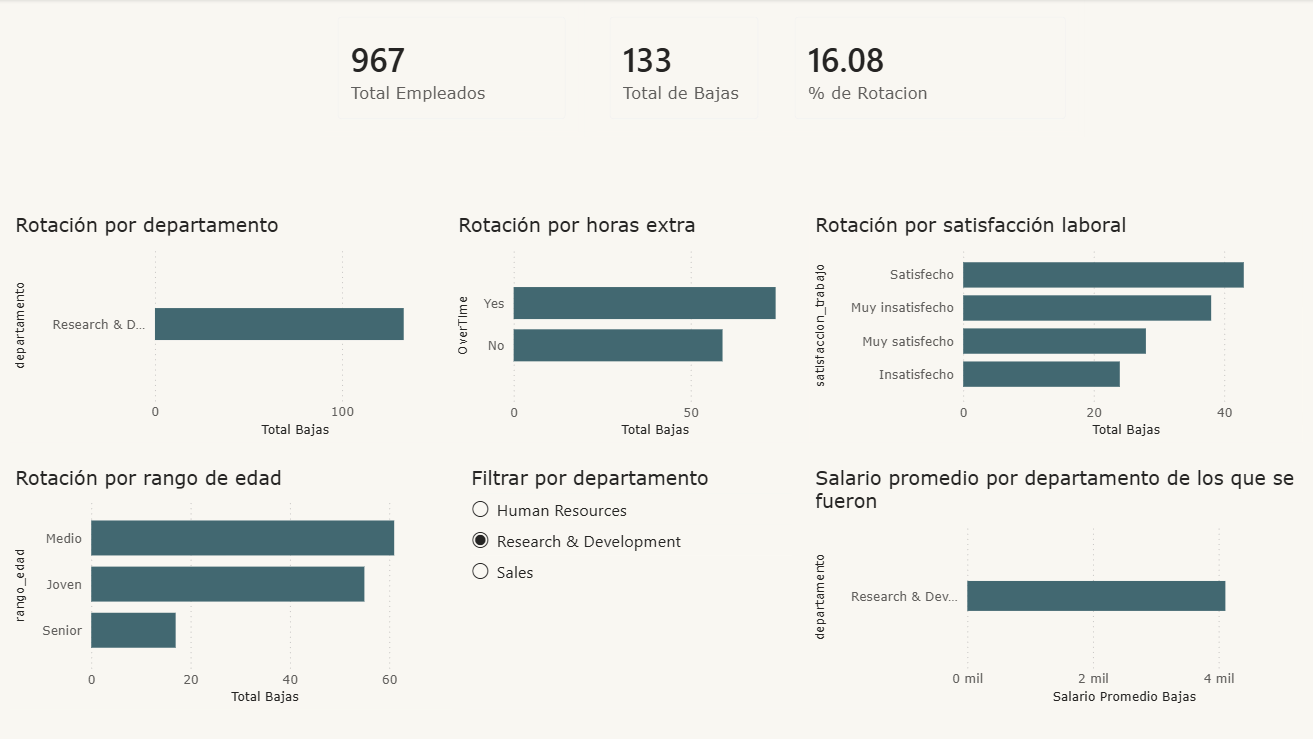

What the dashboard file says about the page in this screenshot:
{"tool":"powerbi","page":{"name":"Página 1","canvas":[1280,720],"ordinal":0},"visuals":[{"type":"cardVisual","fields":{"Data":["CountNonNull(hr_analytics vista_empleados.id_empleado)"]},"box":[312.2,0,256.8,134.2],"z":0},{"type":"cardVisual","fields":{"Data":["hr_analytics vista_empleados.Total Bajas"]},"box":[576.8,0,179.9,134.2],"z":1000},{"type":"cardVisual","fields":{"Data":["Avg(hr_analytics vista_empleados.% Rotacion)"]},"box":[756.7,0,298.6,134.2],"z":2000},{"type":"clusteredBarChart","title":"Rotación por departamento","fields":{"Y":["hr_analytics vista_empleados.Total Bajas"],"Category":["hr_analytics vista_empleados.departamento"]},"box":[10.7,207.2,430.9,223.7],"z":3000},{"type":"clusteredBarChart","title":"Rotación por horas extra","fields":{"Y":["hr_analytics vista_empleados.Total Bajas"],"Category":["hr_analytics vista_empleados.OverTime"]},"box":[441.7,207.2,347.5,224],"z":4000},{"type":"clusteredBarChart","title":"Rotación por satisfacción laboral","fields":{"Category":["hr_analytics vista_empleados.satisfaccion_trabajo"],"Y":["hr_analytics vista_empleados.Total Bajas"]},"box":[789.1,207.2,479.3,224],"z":5000},{"type":"clusteredBarChart","title":"Rotación por rango de edad","fields":{"Category":["hr_analytics vista_empleados.rango_edad"],"Y":["hr_analytics vista_empleados.Total Bajas"]},"box":[10.5,453.2,430.2,237.6],"z":6000},{"type":"clusteredBarChart","title":"Salario promedio por departamento de los que se fueron","fields":{"Category":["hr_analytics vista_empleados.departamento"],"Y":["hr_analytics vista_empleados.Salario Promedio Bajas"]},"box":[788.8,453.3,479.5,237.3],"z":7000},{"type":"listSlicer","fields":{"Values":["hr_analytics vista_empleados.departamento"]},"box":[454.2,453.3,322.9,237.3],"z":8000}]}

Visuals, with their boxes in screenshot pixels (x1, y1, x2, y2), scaled from the page's 1280x720 canvas onto the 1313x739 screenshot:
cardVisual - CountNonNull(hr_analytics vista_empleados.id_empleado): locate(320, 0, 584, 138)
cardVisual - hr_analytics vista_empleados.Total Bajas: locate(592, 0, 776, 138)
cardVisual - Avg(hr_analytics vista_empleados.% Rotacion): locate(776, 0, 1083, 138)
"Rotación por departamento" clusteredBarChart: locate(11, 213, 453, 442)
"Rotación por horas extra" clusteredBarChart: locate(453, 213, 810, 443)
"Rotación por satisfacción laboral" clusteredBarChart: locate(809, 213, 1301, 443)
"Rotación por rango de edad" clusteredBarChart: locate(11, 465, 452, 709)
"Salario promedio por departamento de los que se fueron" clusteredBarChart: locate(809, 465, 1301, 709)
listSlicer - hr_analytics vista_empleados.departamento: locate(466, 465, 797, 709)
